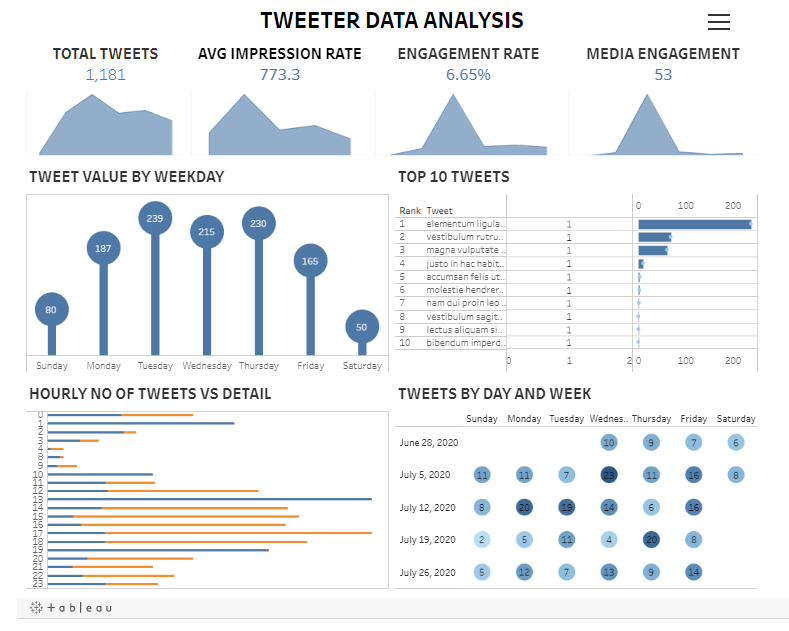

This screenshot's page, from the dashboard's own definition file:
{"tool":"tableau","page":{"name":"Dashboard 1","canvas":[1000,800],"ordinal":0},"visuals":[{"type":"text","box":[8,8,984,42]},{"type":"dashboard-object","box":[914,16,45,32]},{"type":"parameter","param":"[Parameters].[Parameter 1]","box":[856,17,130,39.4]},{"type":"worksheet","title":"TOTAL TWEETS","mark":"Area","rows":["Tweet"],"cols":["time"],"box":[8,50,220,165]},{"type":"worksheet","title":"AVG IMPRESSION RATE","mark":"Area","rows":["impressions"],"cols":["time"],"box":[228,50,245,165]},{"type":"worksheet","title":"ENGAGEMENT RATE","mark":"Area","rows":["engagements"],"cols":["time"],"box":[473,50,258,165]},{"type":"worksheet","title":"MEDIA ENGAGEMENT","mark":"Area","rows":["media engagements"],"cols":["time"],"box":[731,50,261,165]},{"type":"parameter","param":"[Parameters].[Parameter 2]","box":[856,56.4,130,39.4]},{"type":"filter","title":"TWEETS BY DAY AND WEEK","param":"[federated.1yw7u5k008impu11ulmlx10ivpz7].[mn:time:ok]","box":[856,95.8,130,39.4]},{"type":"legend","title":"TWEETS BY DAY AND WEEK","param":"[federated.1yw7u5k008impu11ulmlx10ivpz7].[cnt:Tweet:qk]","box":[856,135.2,130,39.4]},{"type":"legend","title":"HOURLY NO OF TWEETS VS DETAIL","param":"[federated.1yw7u5k008impu11ulmlx10ivpz7].[:Measure Names]","box":[856,174.6,130,39.4]},{"type":"worksheet","title":"TWEET VALUE BY WEEKDAY","mark":"Bar","rows":["Tweet","Tweet"],"cols":["time"],"box":[8,215,492,288.5]},{"type":"worksheet","title":"TOP 10 TWEETS","mark":"Automatic","rows":["Calculation_100486626109943814","Tweet"],"cols":["Tweet","Calculation_100486626108555268","Calculation_100486626108555268"],"box":[500,215,492,288.5]},{"type":"worksheet","title":"HOURLY NO OF TWEETS VS DETAIL","mark":"Bar","rows":["time"],"cols":["Tweet","detail expands"],"box":[8,503.5,492,288.5]},{"type":"worksheet","title":"TWEETS BY DAY AND WEEK","mark":"Circle","rows":["time"],"cols":["time"],"box":[500,503.5,492,288.5]}]}

Visuals, with their boxes in screenshot pixels (x1, y1, x2, y2), scaled from the page's 1000x800 canvas onto the 789x631 screenshot:
text: box=[6, 6, 783, 39]
dashboard-object: box=[721, 13, 757, 38]
parameter: box=[675, 13, 778, 44]
"TOTAL TWEETS" worksheet (Area marks): box=[6, 39, 180, 170]
"AVG IMPRESSION RATE" worksheet (Area marks): box=[180, 39, 373, 170]
"ENGAGEMENT RATE" worksheet (Area marks): box=[373, 39, 577, 170]
"MEDIA ENGAGEMENT" worksheet (Area marks): box=[577, 39, 783, 170]
parameter: box=[675, 44, 778, 76]
"TWEETS BY DAY AND WEEK" filter: box=[675, 76, 778, 107]
"TWEETS BY DAY AND WEEK" legend: box=[675, 107, 778, 138]
"HOURLY NO OF TWEETS VS DETAIL" legend: box=[675, 138, 778, 169]
"TWEET VALUE BY WEEKDAY" worksheet (Bar marks): box=[6, 170, 394, 397]
"TOP 10 TWEETS" worksheet: box=[394, 170, 783, 397]
"HOURLY NO OF TWEETS VS DETAIL" worksheet (Bar marks): box=[6, 397, 394, 625]
"TWEETS BY DAY AND WEEK" worksheet (Circle marks): box=[394, 397, 783, 625]
